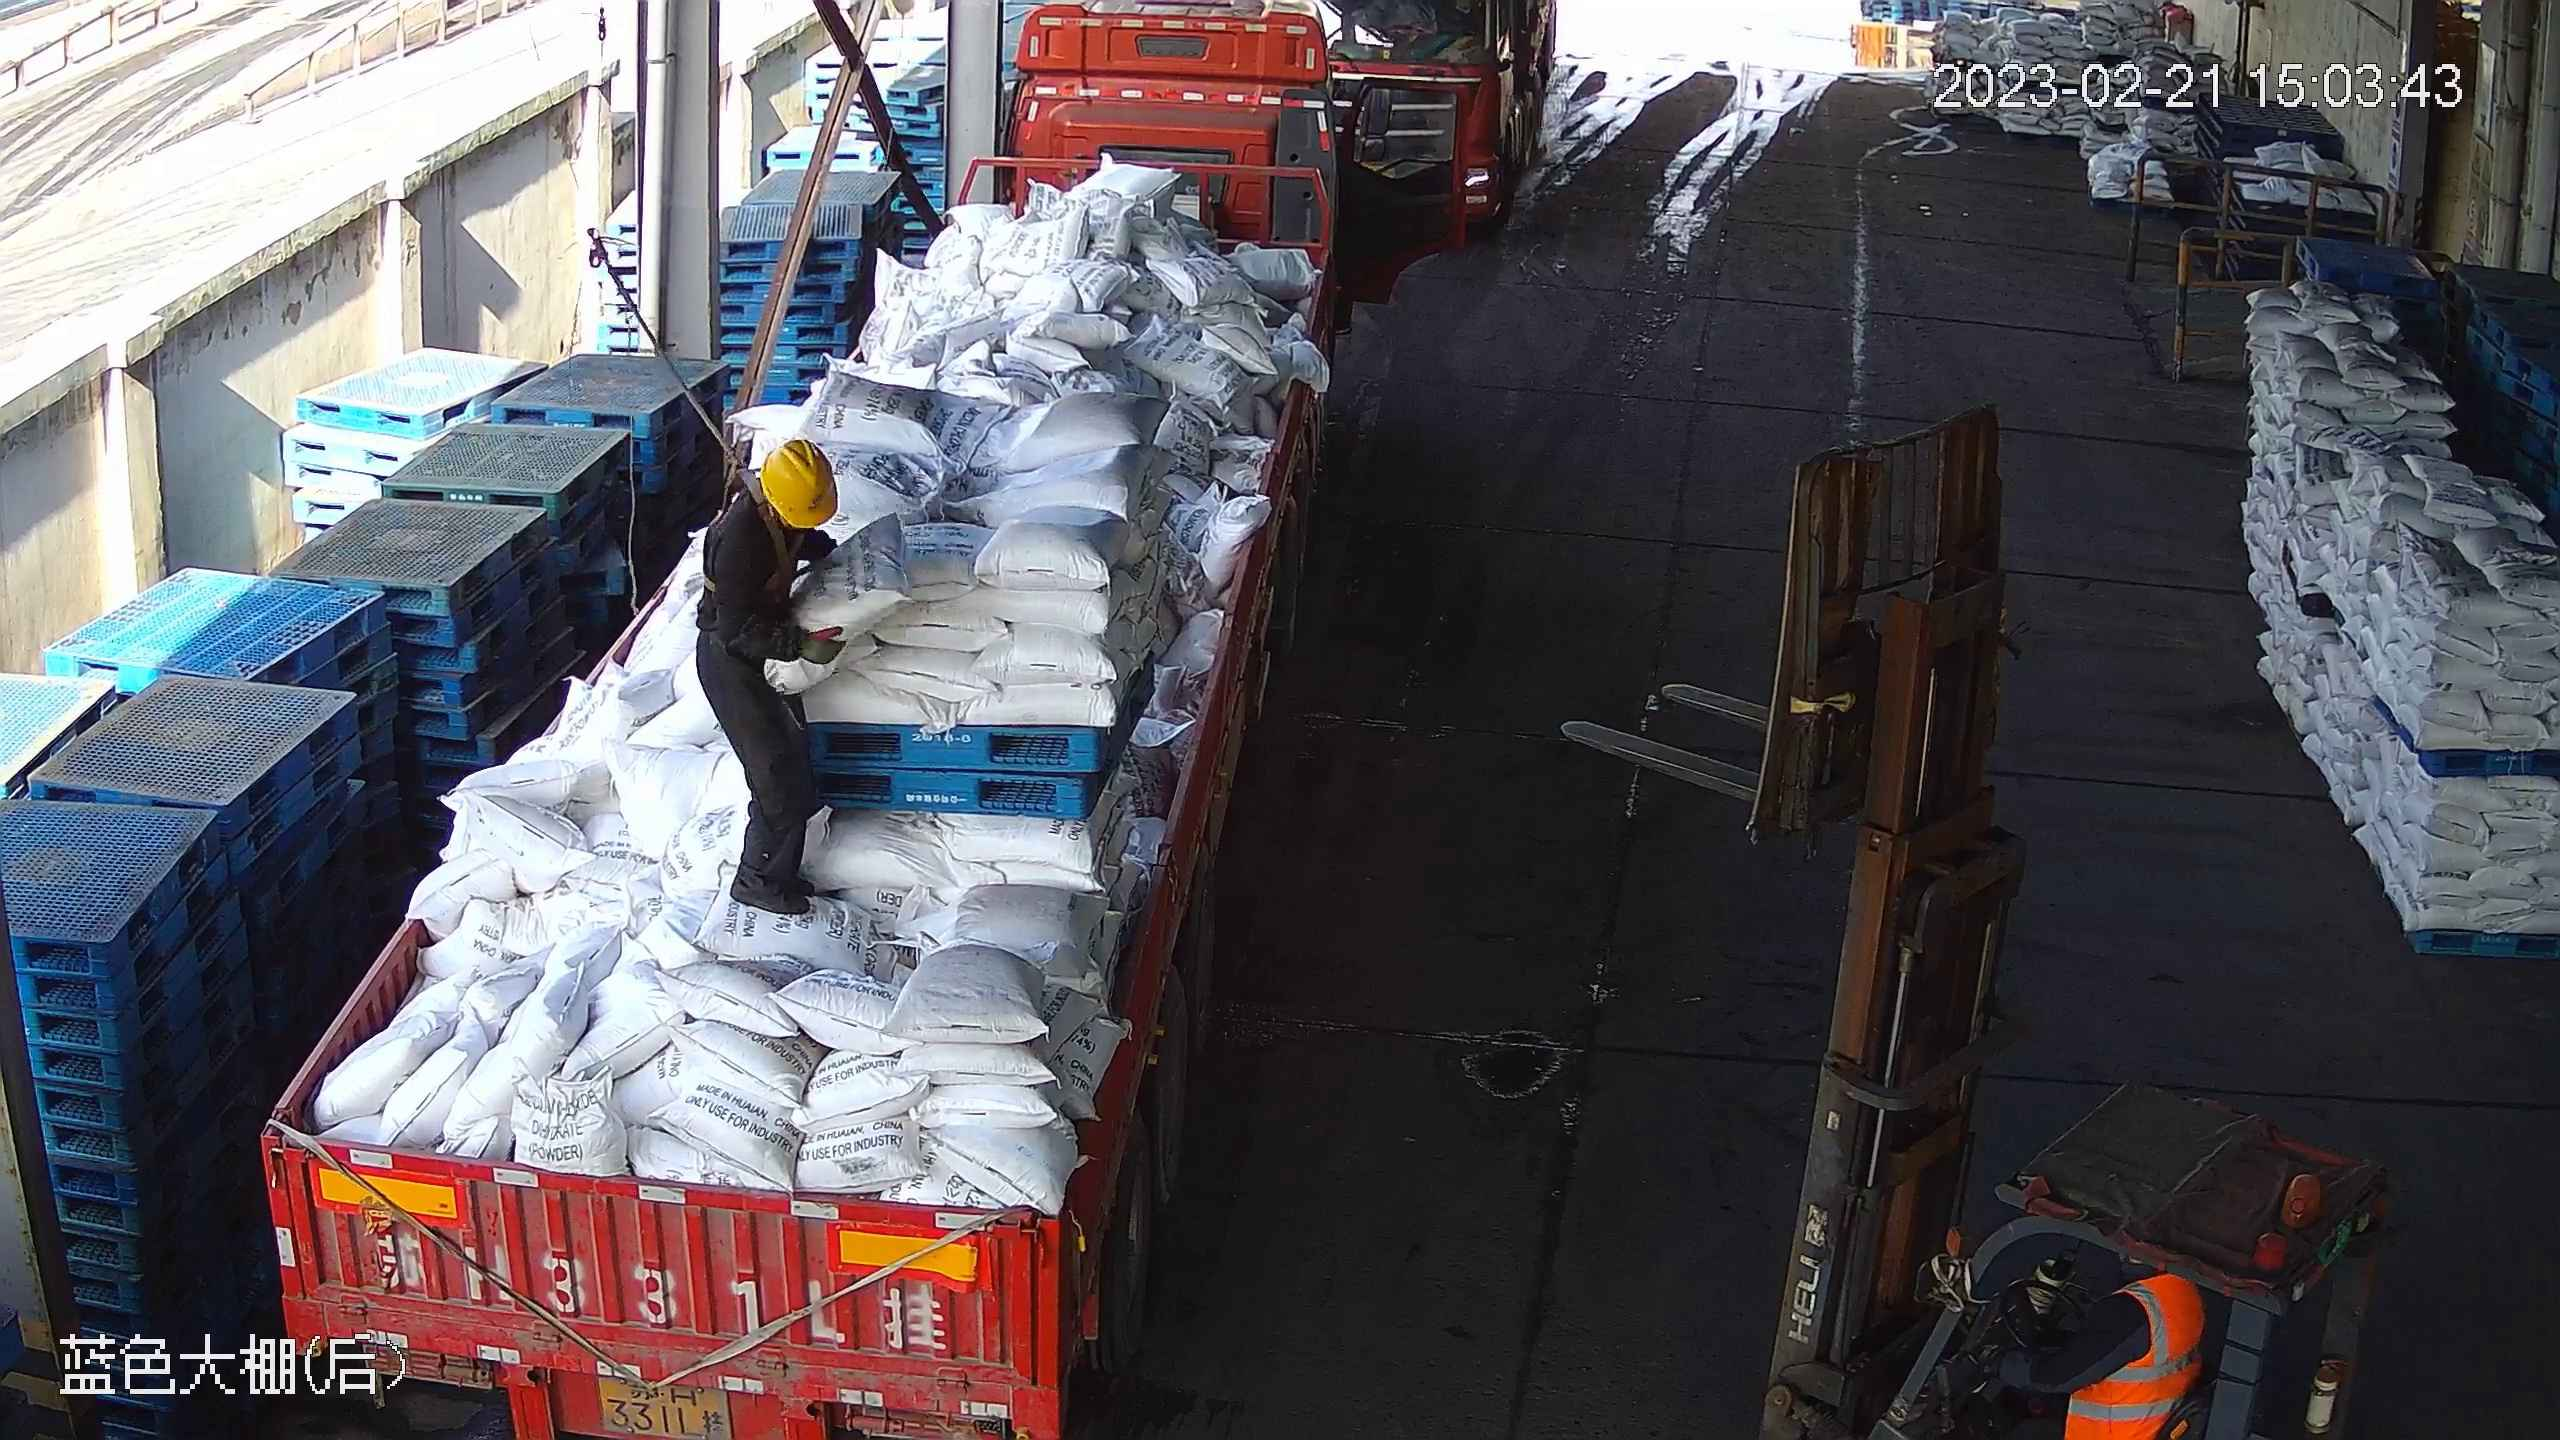belt: (725, 447, 788, 586)
head: (679, 453, 857, 617)
helmet: (744, 445, 861, 534)
people: (681, 443, 866, 932)
truck: (236, 1, 1349, 1440), (1318, 6, 1551, 240)
